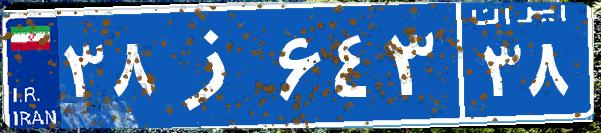3: (385, 28, 445, 110), (57, 26, 110, 107), (475, 38, 525, 113)
4: (330, 28, 385, 110)
6: (273, 28, 330, 110)
8: (110, 28, 158, 105), (525, 38, 570, 115)
ز: (158, 15, 273, 115)
